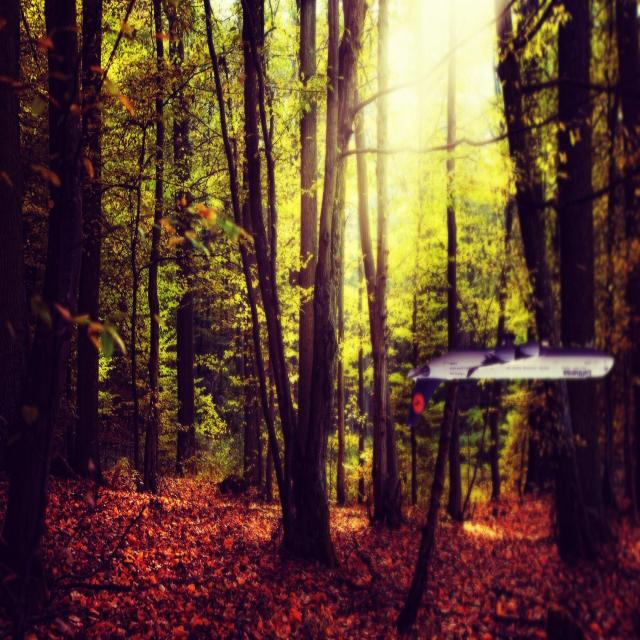airplane: (406, 338, 614, 428)
